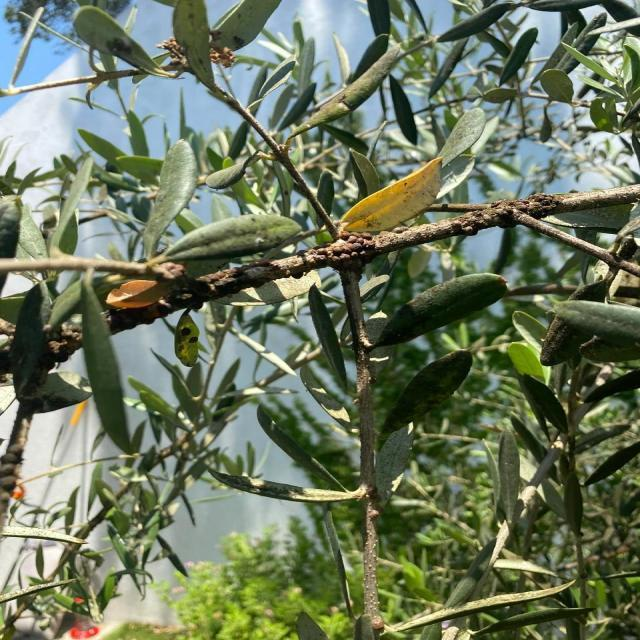BlackScale: (469, 193, 558, 230), (305, 231, 376, 274), (0, 438, 25, 499), (366, 488, 382, 522), (372, 618, 385, 630)
OlivePeacockSpot: (379, 350, 472, 440), (341, 158, 442, 232), (175, 311, 202, 367)
